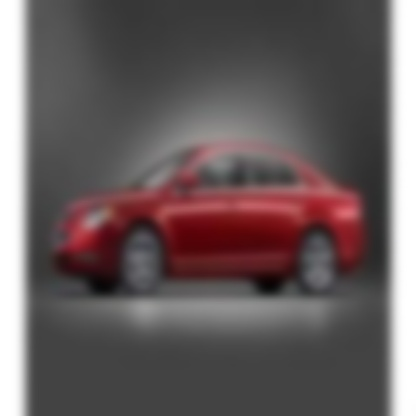Vehicle: (54, 142, 371, 302)
